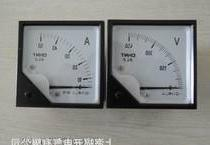pointer: (112, 23, 193, 104), (22, 25, 98, 103)
